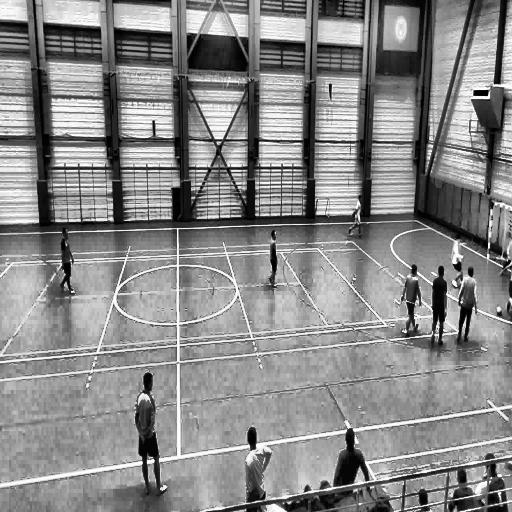ball: (496, 306, 502, 316)
player: (138, 372, 170, 498), (244, 426, 272, 512), (457, 264, 478, 344), (401, 264, 421, 340), (431, 264, 448, 346), (60, 228, 75, 297), (346, 197, 364, 237), (451, 234, 463, 291), (503, 252, 512, 317), (269, 230, 277, 288)
